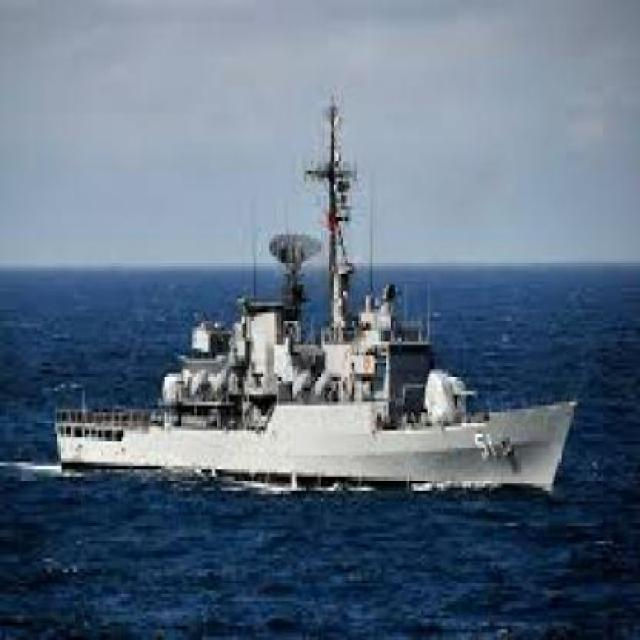warship2: (44, 86, 589, 513)
